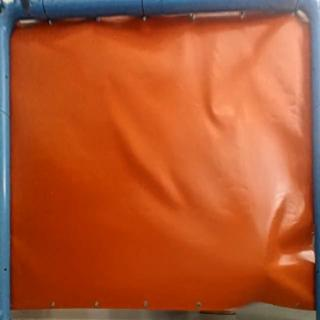Hit-hRxx: (260, 267, 272, 282)
